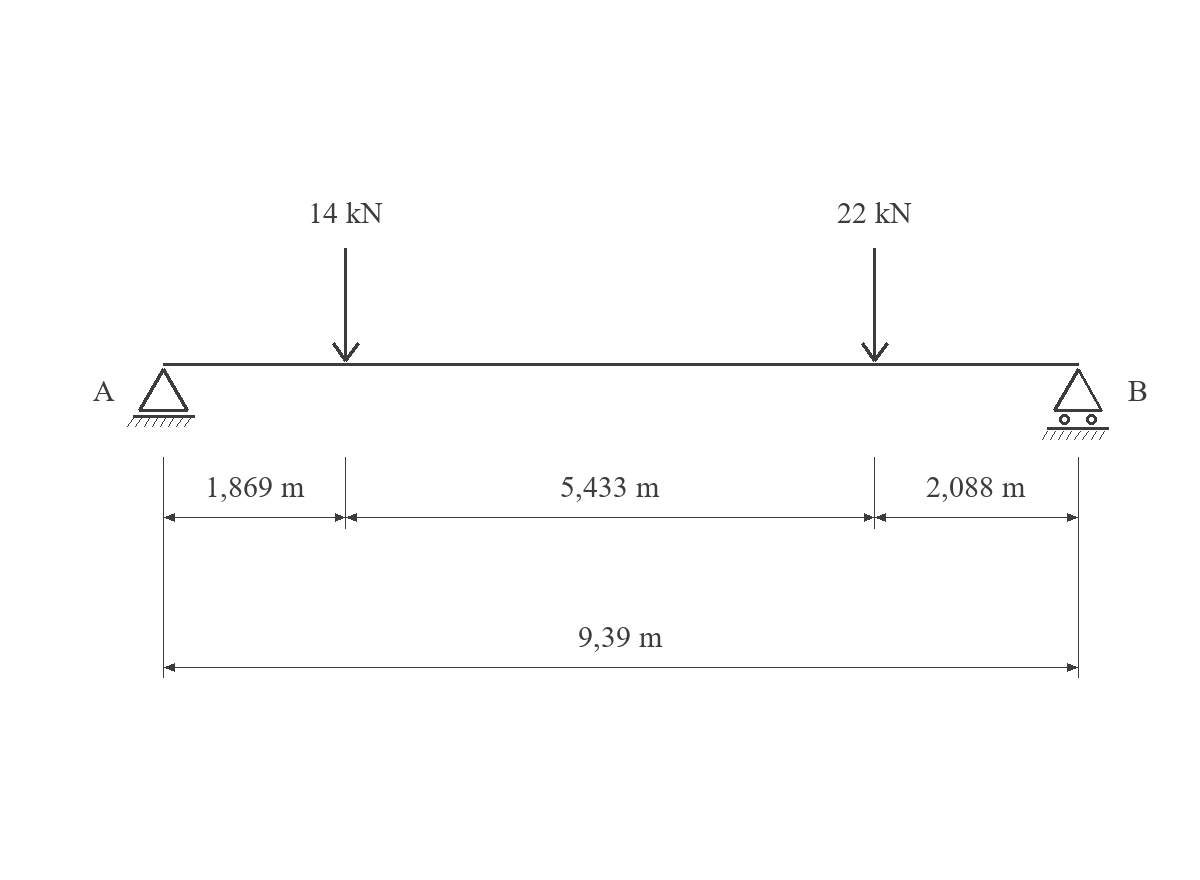pin_support: (127, 368, 195, 427)
point_load: (332, 248, 360, 362), (861, 248, 889, 362)
roller_support: (1042, 368, 1109, 440)
